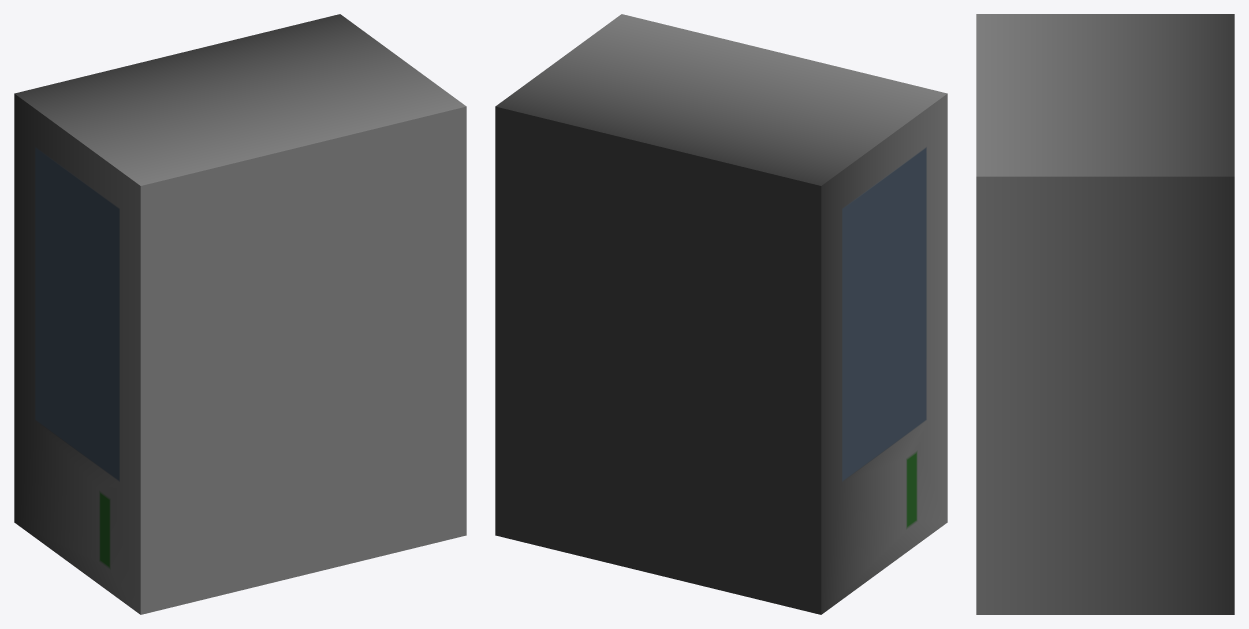
File: Act.Microwave.glb
3 views of the same model, side by side, from view 1: azimuth 30°, elevation 25°; view 2: azimuth 150°, elevation 25°; view 3: azimuth 270°, elevation 25° (orthographic). The views are drawn at different scales.
Parts seen in each view (by area): view 1: Cube; view 2: Cube; view 3: Cube.
Part boxes in pixels (x1,y1,x2,y2): Cube: [14, 14, 466, 614]; Cube: [495, 14, 947, 614]; Cube: [976, 14, 1234, 614].
Size of the model in its own units: 0.5756 by 0.7238 by 0.3866.
